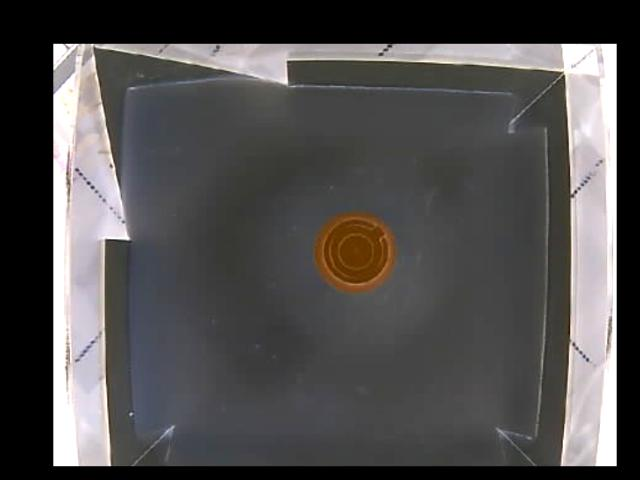Cup: (314, 215, 394, 290)
